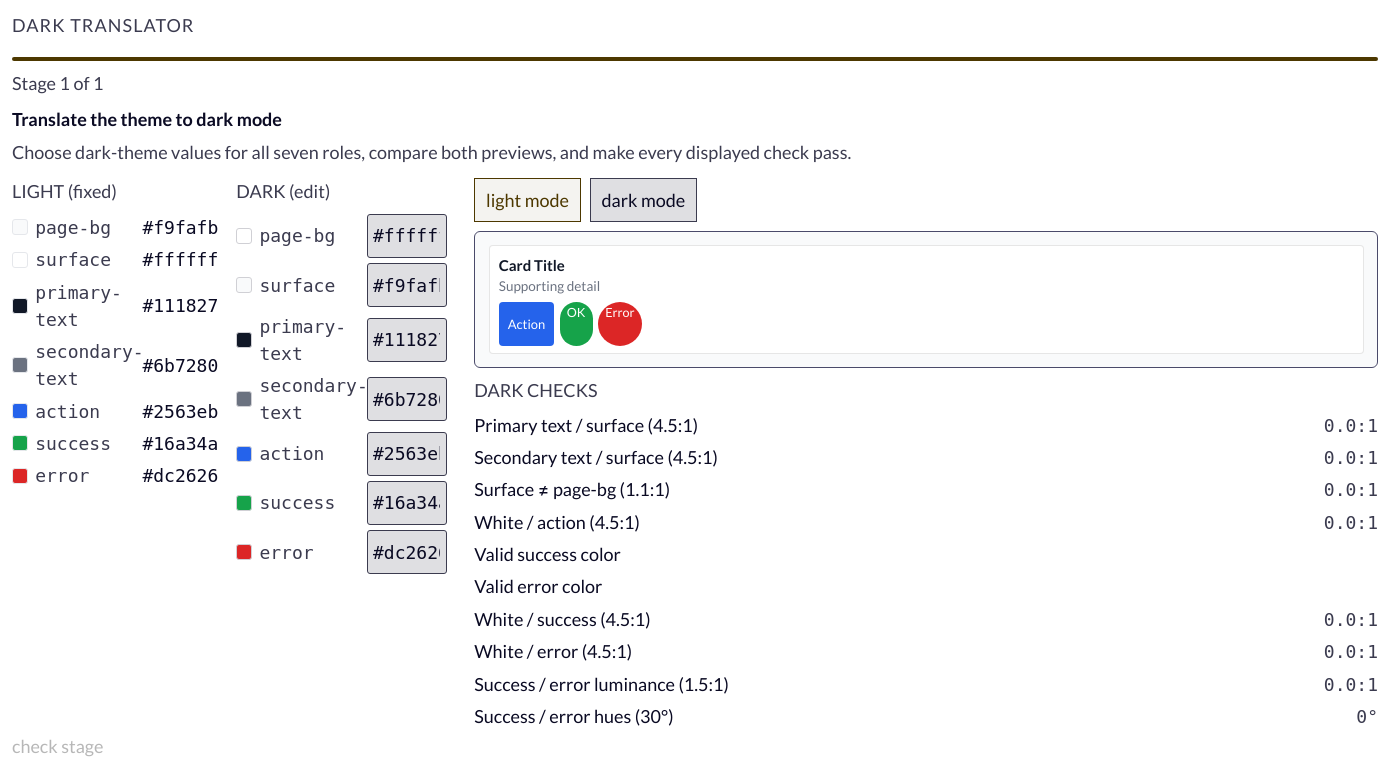
Test: DarkTranslatorTool › describes invalid hex values with a visible error
Replace the text in the field named "primary-text dark-theme hex color" with "nope" at [407, 340], box [367,318,447,362]
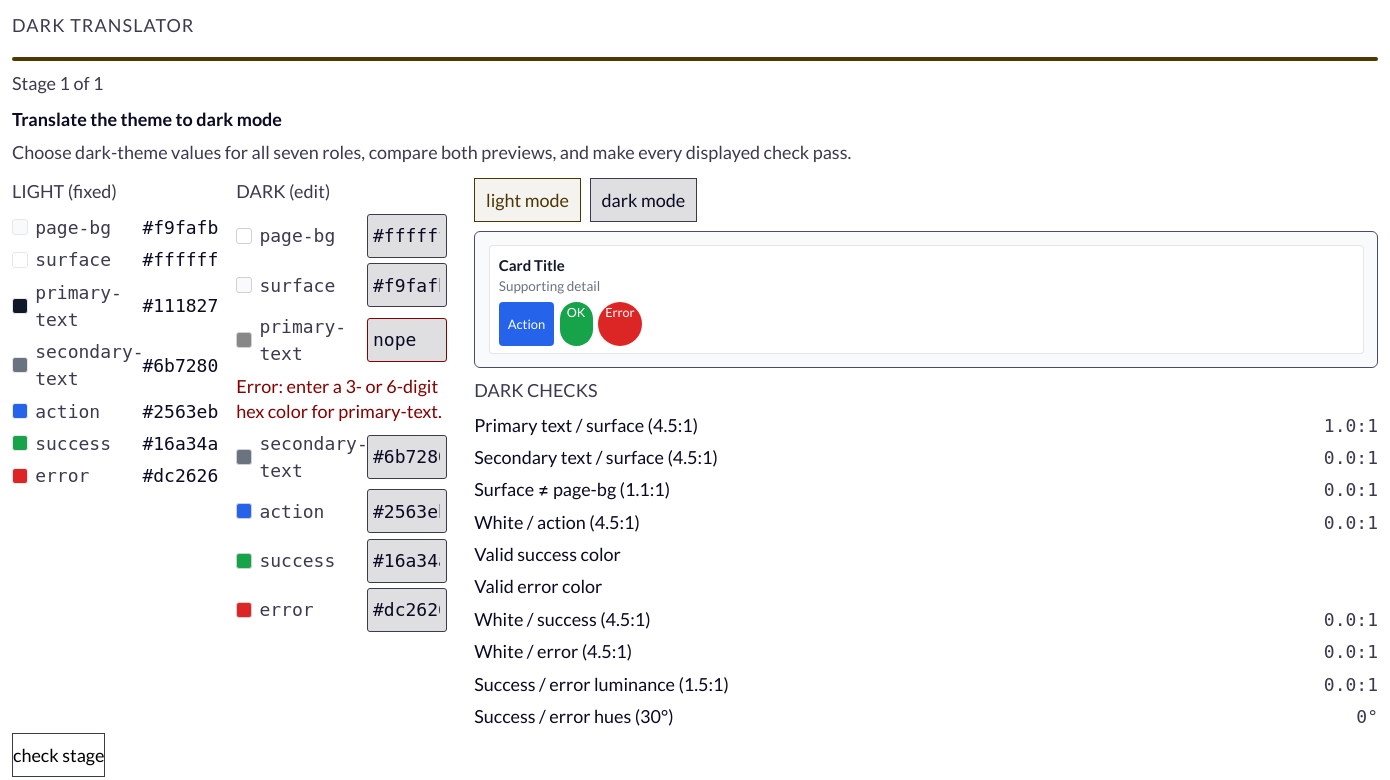
Check: the text "Error: enter a 3- or 6-digit hex color for primary-text." is shown, box [236,374,456,424]
Replace the text in the field named "primary-text dark-theme hex color" with "#f8fafc" at [407, 340], box [367,318,447,362]
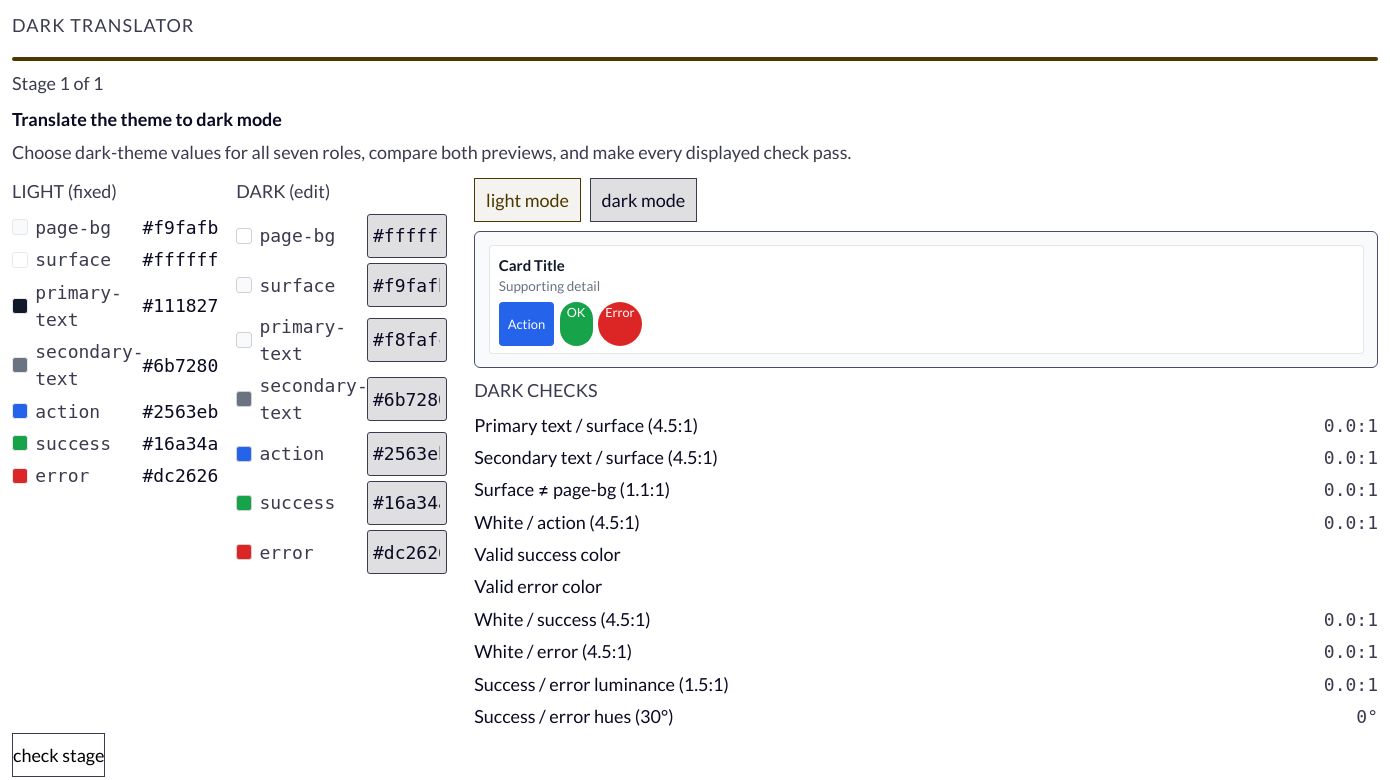
Check: the text "hex color for primary-text" is gone
